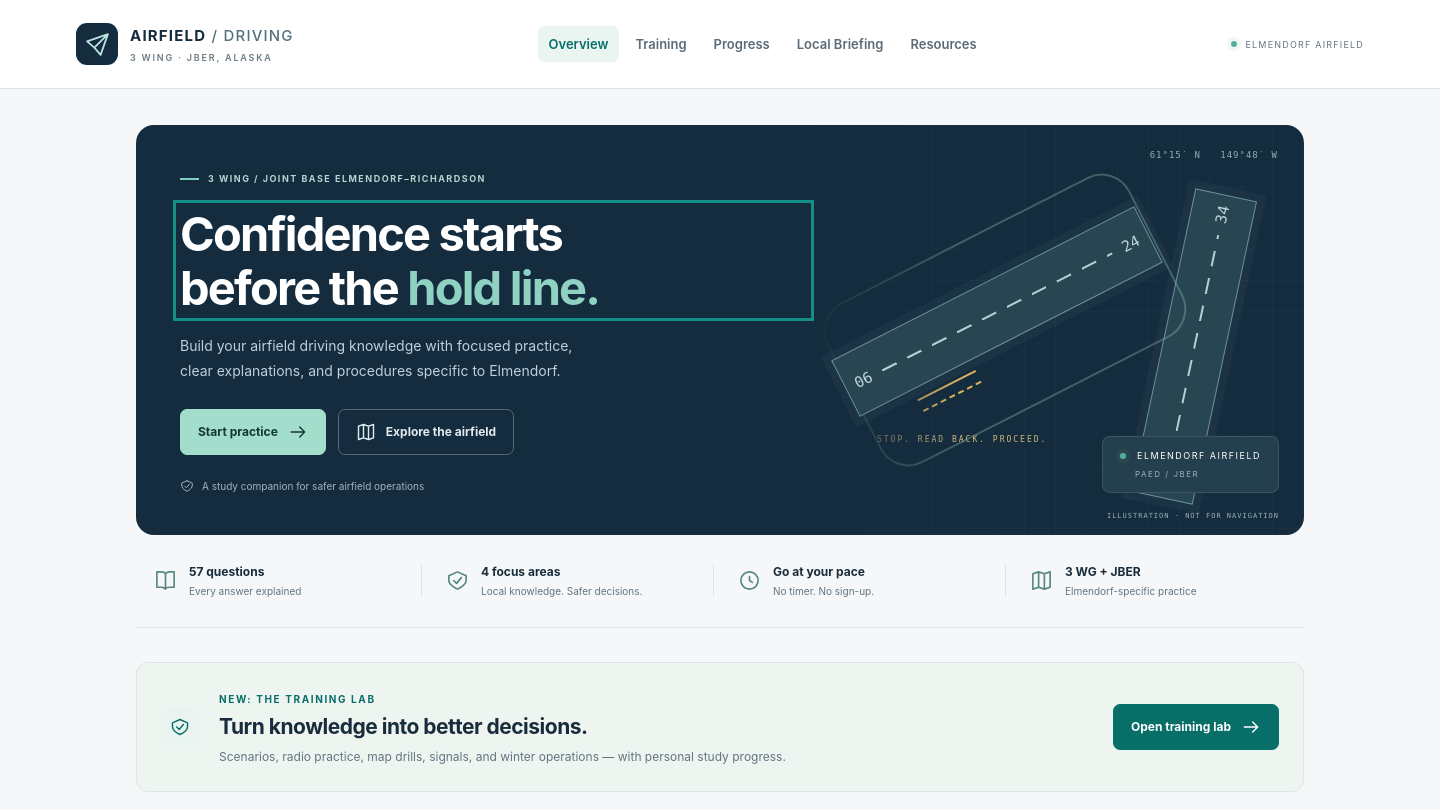
Test: practice opens without collecting personal information
Click the button "Start practice" at (253, 432), box [180, 408, 326, 454]
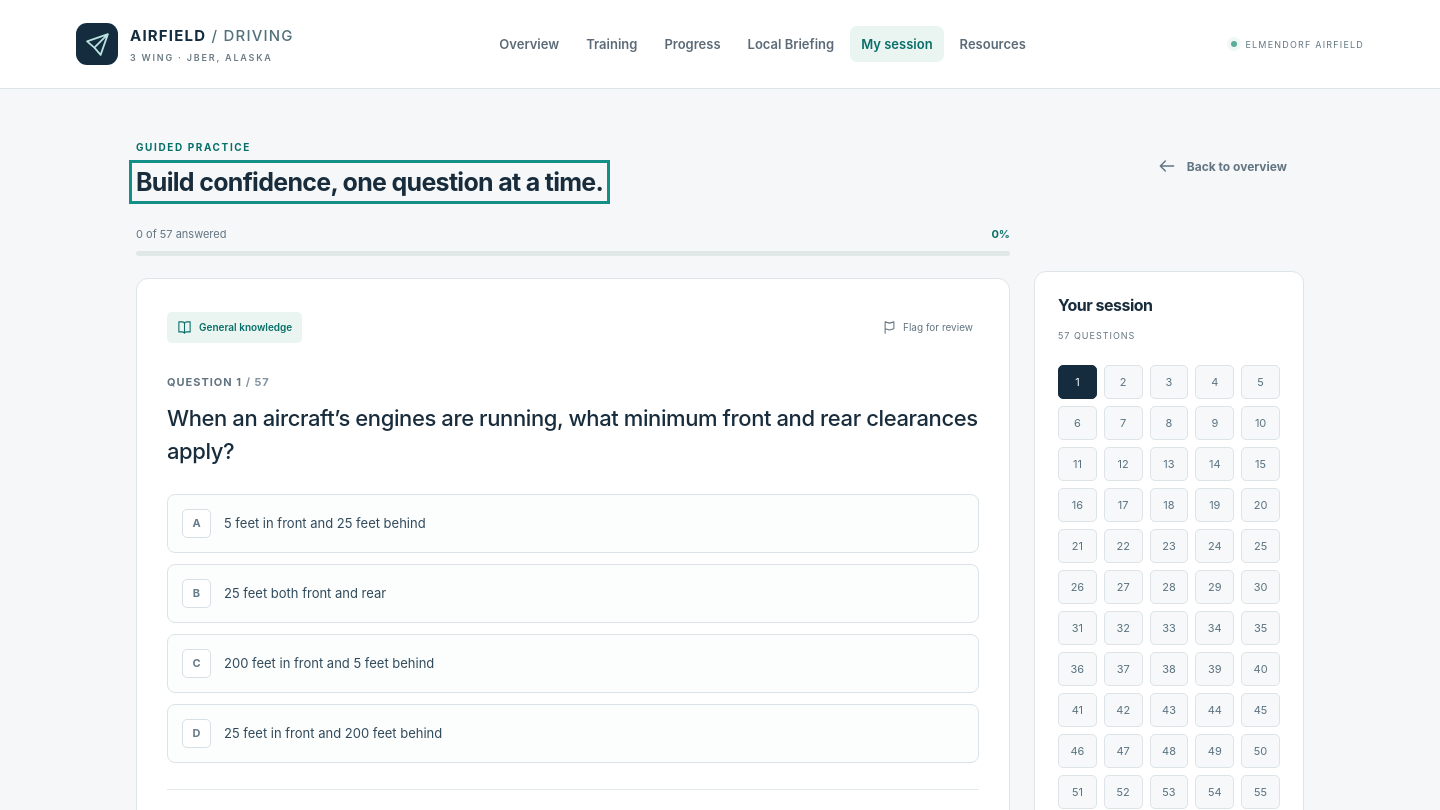
Check: the heading "Question 1 / 57" is shown, box [167, 375, 270, 389]
